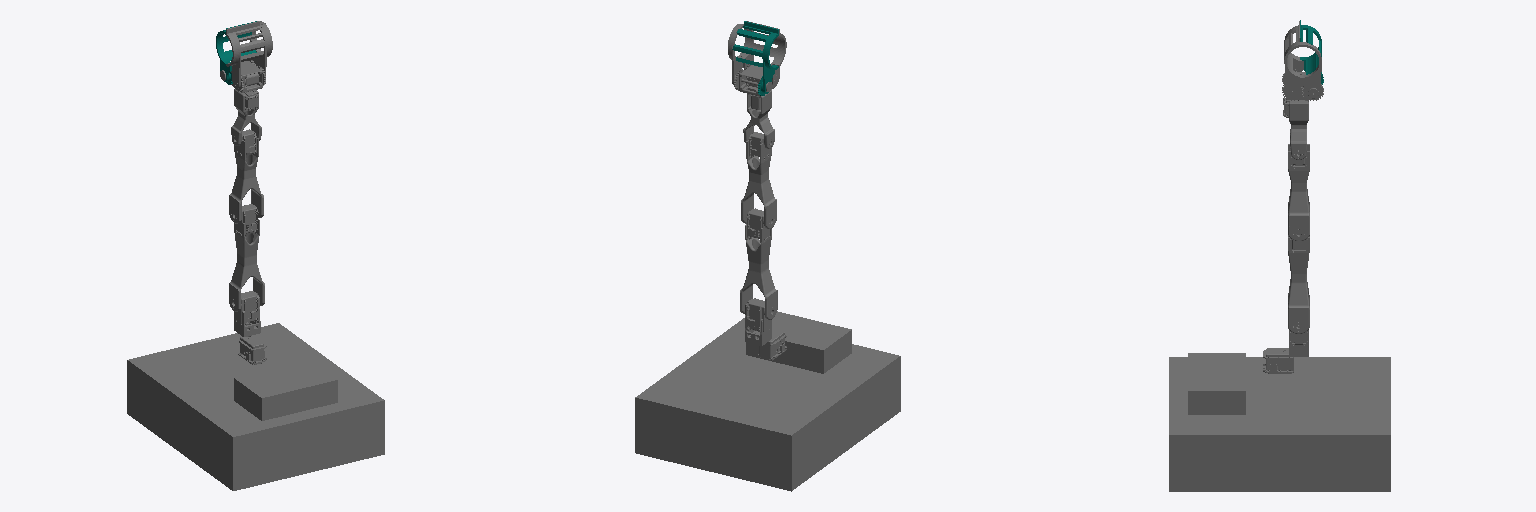
--- Render facts (derived) ---
3 views of the same robot in one strip: view 1: azimuth 30°, elevation 25°; view 2: azimuth 150°, elevation 25°; view 3: azimuth 270°, elevation 25° (orthographic).
Model onshape with 27 links and 26 joints (7 revolute, 19 fixed), rooted at base_link, posed all joints at 0.
Visible links, largest first — view 1: base_link, part_1_2, part_1_3, part_1_5, poignee, part_7, part_1_10, part_7_2; view 2: base_link, part_1_2, part_1_3, part_1_10, poignee, part_7_2, part_1_5, part_7; view 3: base_link, part_1_2, part_1_3, poignee, part_7, part_1_6, part_1_9, part_1_10.
Link boxes in pixels (x1,y1,x2,y2): base_link: (127,323,384,490); part_1_2: (229,219,264,311); part_1_3: (229,138,263,223); part_1_5: (226,21,266,91); poignee: (231,89,261,145); part_7: (238,335,266,364); part_1_10: (216,21,256,84); part_7_2: (235,291,259,324); base_link: (635,311,900,491); part_1_2: (740,224,777,319); part_1_3: (741,140,776,228); part_1_10: (732,21,778,95); poignee: (743,90,774,148); part_7_2: (745,298,770,331); part_1_5: (747,21,786,88); part_7: (758,329,786,360); base_link: (1169,353,1390,491); part_1_2: (1288,236,1309,333); part_1_3: (1288,144,1309,240); poignee: (1289,100,1308,159); part_7: (1263,348,1293,373); part_1_6: (1282,42,1303,100); part_1_9: (1300,42,1323,100); part_1_10: (1300,20,1323,84).
Size in the robot's own frame: 0.38 by 0.46 by 0.9668 metres.
Meshes: 27 distinct files referenced, 27 mesh visuals loaded (27 binary STL).

robot.urdf — onshape:
<?xml version="1.0" ?>
<robot name="onshape">
<link name="base_link">
    <visual>
    <origin xyz="0 0 0" rpy="0 -0 0" />
    <geometry>
    <mesh filename="package://braccio_description/meshes/base_link_visual.stl"/>
    </geometry>
    <material name="base_link_material">
    <color rgba="0.5 0.5 0.5 1.0"/>
    </material>
    </visual>
    <collision>
    <origin xyz="0 0 0" rpy="0 -0 0" />
    <geometry>
    <mesh filename="package://braccio_description/meshes/base_link_collision.stl"/>
    </geometry>
    <material name="base_link_material">
    <color rgba="0.5 0.5 0.5 1.0"/>
    </material>
    </collision>
    <inertial>
    <origin xyz="0 0 0" rpy="0 0 0"/>
    <mass value="0" />
    <inertia ixx="0" ixy="0"  ixz="0" iyy="0" iyz="0" izz="0" />
    </inertial>
</link>

<link name="part_7">
    <visual>
    <origin xyz="0 0 0" rpy="0 -0 0" />
    <geometry>
    <mesh filename="package://braccio_description/meshes/part_7_visual.stl"/>
    </geometry>
    <material name="part_7_material">
    <color rgba="0.5 0.5 0.5 1.0"/>
    </material>
    </visual>
    <collision>
    <origin xyz="0 0 0" rpy="0 -0 0" />
    <geometry>
    <mesh filename="package://braccio_description/meshes/part_7_collision.stl"/>
    </geometry>
    <material name="part_7_material">
    <color rgba="0.5 0.5 0.5 1.0"/>
    </material>
    </collision>
    <inertial>
    <origin xyz="0 0 0" rpy="0 0 0"/>
    <mass value="0" />
    <inertia ixx="0" ixy="0"  ixz="0" iyy="0" iyz="0" izz="0" />
    </inertial>
</link>

<link name="part_5">
    <visual>
    <origin xyz="0 0 0" rpy="0 -0 0" />
    <geometry>
    <mesh filename="package://braccio_description/meshes/part_5_visual.stl"/>
    </geometry>
    <material name="part_5_material">
    <color rgba="0.5 0.5 0.5 1.0"/>
    </material>
    </visual>
    <collision>
    <origin xyz="0 0 0" rpy="0 -0 0" />
    <geometry>
    <mesh filename="package://braccio_description/meshes/part_5_collision.stl"/>
    </geometry>
    <material name="part_5_material">
    <color rgba="0.5 0.5 0.5 1.0"/>
    </material>
    </collision>
    <inertial>
    <origin xyz="0 0 0" rpy="0 0 0"/>
    <mass value="0" />
    <inertia ixx="0" ixy="0"  ixz="0" iyy="0" iyz="0" izz="0" />
    </inertial>
</link>

<link name="part_6">
    <visual>
    <origin xyz="0 0 0" rpy="0 -0 0" />
    <geometry>
    <mesh filename="package://braccio_description/meshes/part_6_visual.stl"/>
    </geometry>
    <material name="part_6_material">
    <color rgba="0.5 0.5 0.5 1.0"/>
    </material>
    </visual>
    <collision>
    <origin xyz="0 0 0" rpy="0 -0 0" />
    <geometry>
    <mesh filename="package://braccio_description/meshes/part_6_collision.stl"/>
    </geometry>
    <material name="part_6_material">
    <color rgba="0.5 0.5 0.5 1.0"/>
    </material>
    </collision>
    <inertial>
    <origin xyz="0 0 0" rpy="0 0 0"/>
    <mass value="0" />
    <inertia ixx="0" ixy="0"  ixz="0" iyy="0" iyz="0" izz="0" />
    </inertial>
</link>

<link name="part_4">
    <visual>
    <origin xyz="0 0 0" rpy="0 -0 0" />
    <geometry>
    <mesh filename="package://braccio_description/meshes/part_4_visual.stl"/>
    </geometry>
    <material name="part_4_material">
    <color rgba="0.5 0.5 0.5 1.0"/>
    </material>
    </visual>
    <collision>
    <origin xyz="0 0 0" rpy="0 -0 0" />
    <geometry>
    <mesh filename="package://braccio_description/meshes/part_4_collision.stl"/>
    </geometry>
    <material name="part_4_material">
    <color rgba="0.5 0.5 0.5 1.0"/>
    </material>
    </collision>
    <inertial>
    <origin xyz="0 0 0" rpy="0 0 0"/>
    <mass value="0" />
    <inertia ixx="0" ixy="0"  ixz="0" iyy="0" iyz="0" izz="0" />
    </inertial>
</link>

<joint name="3f" type="fixed">
    <origin xyz="-6.09235e-15 6.45317e-15 -0.0043" rpy="3.14159 1.24298e-32 -5.55112e-17" />
    <parent link="part_6" />
    <child link="part_4" />
    <axis xyz="0 0 1"/>
    <limit effort="1" velocity="20" />
    <joint_properties friction="0.0"/>
</joint>

<link name="part_1">
    <visual>
    <origin xyz="0 0 0" rpy="0 -0 0" />
    <geometry>
    <mesh filename="package://braccio_description/meshes/part_1_visual.stl"/>
    </geometry>
    <material name="part_1_material">
    <color rgba="0.5 0.5 0.5 1.0"/>
    </material>
    </visual>
    <collision>
    <origin xyz="0 0 0" rpy="0 -0 0" />
    <geometry>
    <mesh filename="package://braccio_description/meshes/part_1_collision.stl"/>
    </geometry>
    <material name="part_1_material">
    <color rgba="0.5 0.5 0.5 1.0"/>
    </material>
    </collision>
    <inertial>
    <origin xyz="0 0 0" rpy="0 0 0"/>
    <mass value="0" />
    <inertia ixx="0" ixy="0"  ixz="0" iyy="0" iyz="0" izz="0" />
    </inertial>
</link>

<link name="part_7_2">
    <visual>
    <origin xyz="0 0 0" rpy="0 -0 0" />
    <geometry>
    <mesh filename="package://braccio_description/meshes/part_7_2_visual.stl"/>
    </geometry>
    <material name="part_7_2_material">
    <color rgba="0.5 0.5 0.5 1.0"/>
    </material>
    </visual>
    <collision>
    <origin xyz="0 0 0" rpy="0 -0 0" />
    <geometry>
    <mesh filename="package://braccio_description/meshes/part_7_2_collision.stl"/>
    </geometry>
    <material name="part_7_2_material">
    <color rgba="0.5 0.5 0.5 1.0"/>
    </material>
    </collision>
    <inertial>
    <origin xyz="0 0 0" rpy="0 0 0"/>
    <mass value="0" />
    <inertia ixx="0" ixy="0"  ixz="0" iyy="0" iyz="0" izz="0" />
    </inertial>
</link>

<link name="part_5_2">
    <visual>
    <origin xyz="0 0 0" rpy="0 -0 0" />
    <geometry>
    <mesh filename="package://braccio_description/meshes/part_5_2_visual.stl"/>
    </geometry>
    <material name="part_5_2_material">
    <color rgba="0.5 0.5 0.5 1.0"/>
    </material>
    </visual>
    <collision>
    <origin xyz="0 0 0" rpy="0 -0 0" />
    <geometry>
    <mesh filename="package://braccio_description/meshes/part_5_2_collision.stl"/>
    </geometry>
    <material name="part_5_2_material">
    <color rgba="0.5 0.5 0.5 1.0"/>
    </material>
    </collision>
    <inertial>
    <origin xyz="0 0 0" rpy="0 0 0"/>
    <mass value="0" />
    <inertia ixx="0" ixy="0"  ixz="0" iyy="0" iyz="0" izz="0" />
    </inertial>
</link>

<link name="part_4_2">
    <visual>
    <origin xyz="0 0 0" rpy="0 -0 0" />
    <geometry>
    <mesh filename="package://braccio_description/meshes/part_4_2_visual.stl"/>
    </geometry>
    <material name="part_4_2_material">
    <color rgba="0.5 0.5 0.5 1.0"/>
    </material>
    </visual>
    <collision>
    <origin xyz="0 0 0" rpy="0 -0 0" />
    <geometry>
    <mesh filename="package://braccio_description/meshes/part_4_2_collision.stl"/>
    </geometry>
    <material name="part_4_2_material">
    <color rgba="0.5 0.5 0.5 1.0"/>
    </material>
    </collision>
    <inertial>
    <origin xyz="0 0 0" rpy="0 0 0"/>
    <mass value="0" />
    <inertia ixx="0" ixy="0"  ixz="0" iyy="0" iyz="0" izz="0" />
    </inertial>
</link>

<link name="part_6_2">
    <visual>
    <origin xyz="0 0 0" rpy="0 -0 0" />
    <geometry>
    <mesh filename="package://braccio_description/meshes/part_6_2_visual.stl"/>
    </geometry>
    <material name="part_6_2_material">
    <color rgba="0.5 0.5 0.5 1.0"/>
    </material>
    </visual>
    <collision>
    <origin xyz="0 0 0" rpy="0 -0 0" />
    <geometry>
    <mesh filename="package://braccio_description/meshes/part_6_2_collision.stl"/>
    </geometry>
    <material name="part_6_2_material">
    <color rgba="0.5 0.5 0.5 1.0"/>
    </material>
    </collision>
    <inertial>
    <origin xyz="0 0 0" rpy="0 0 0"/>
    <mass value="0" />
    <inertia ixx="0" ixy="0"  ixz="0" iyy="0" iyz="0" izz="0" />
    </inertial>
</link>

<link name="part_1_2">
    <visual>
    <origin xyz="0 0 0" rpy="0 -0 0" />
    <geometry>
    <mesh filename="package://braccio_description/meshes/part_1_2_visual.stl"/>
    </geometry>
    <material name="part_1_2_material">
    <color rgba="0.5 0.5 0.5 1.0"/>
    </material>
    </visual>
    <collision>
    <origin xyz="0 0 0" rpy="0 -0 0" />
    <geometry>
    <mesh filename="package://braccio_description/meshes/part_1_2_collision.stl"/>
    </geometry>
    <material name="part_1_2_material">
    <color rgba="0.5 0.5 0.5 1.0"/>
    </material>
    </collision>
    <inertial>
    <origin xyz="0 0 0" rpy="0 0 0"/>
    <mass value="0" />
    <inertia ixx="0" ixy="0"  ixz="0" iyy="0" iyz="0" izz="0" />
    </inertial>
</link>

<link name="part_17">
    <visual>
    <origin xyz="0 0 0" rpy="0 -0 0" />
    <geometry>
    <mesh filename="package://braccio_description/meshes/part_17_visual.stl"/>
    </geometry>
    <material name="part_17_material">
    <color rgba="0.5 0.5 0.5 1.0"/>
    </material>
    </visual>
    <collision>
    <origin xyz="0 0 0" rpy="0 -0 0" />
    <geometry>
    <mesh filename="package://braccio_description/meshes/part_17_collision.stl"/>
    </geometry>
    <material name="part_17_material">
    <color rgba="0.5 0.5 0.5 1.0"/>
    </material>
    </collision>
    <inertial>
    <origin xyz="0 0 0" rpy="0 0 0"/>
    <mass value="0" />
    <inertia ixx="0" ixy="0"  ixz="0" iyy="0" iyz="0" izz="0" />
    </inertial>
</link>

<link name="part_6_3">
    <visual>
    <origin xyz="0 0 0" rpy="0 -0 0" />
    <geometry>
    <mesh filename="package://braccio_description/meshes/part_6_3_visual.stl"/>
    </geometry>
    <material name="part_6_3_material">
    <color rgba="0.5 0.5 0.5 1.0"/>
    </material>
    </visual>
    <collision>
    <origin xyz="0 0 0" rpy="0 -0 0" />
    <geometry>
    <mesh filename="package://braccio_description/meshes/part_6_3_collision.stl"/>
    </geometry>
    <material name="part_6_3_material">
    <color rgba="0.5 0.5 0.5 1.0"/>
    </material>
    </collision>
    <inertial>
    <origin xyz="0 0 0" rpy="0 0 0"/>
    <mass value="0" />
    <inertia ixx="0" ixy="0"  ixz="0" iyy="0" iyz="0" izz="0" />
    </inertial>
</link>

<link name="part_1_3">
    <visual>
    <origin xyz="0 0 0" rpy="0 -0 0" />
    <geometry>
    <mesh filename="package://braccio_description/meshes/part_1_3_visual.stl"/>
    </geometry>
    <material name="part_1_3_material">
    <color rgba="0.5 0.5 0.5 1.0"/>
    </material>
    </visual>
    <collision>
    <origin xyz="0 0 0" rpy="0 -0 0" />
    <geometry>
    <mesh filename="package://braccio_description/meshes/part_1_3_collision.stl"/>
    </geometry>
    <material name="part_1_3_material">
    <color rgba="0.5 0.5 0.5 1.0"/>
    </material>
    </collision>
    <inertial>
    <origin xyz="0 0 0" rpy="0 0 0"/>
    <mass value="0" />
    <inertia ixx="0" ixy="0"  ixz="0" iyy="0" iyz="0" izz="0" />
    </inertial>
</link>

<link name="part_1_4">
    <visual>
    <origin xyz="0 0 0" rpy="0 -0 0" />
    <geometry>
    <mesh filename="package://braccio_description/meshes/part_1_4_visual.stl"/>
    </geometry>
    <material name="part_1_4_material">
    <color rgba="0.5 0.5 0.5 1.0"/>
    </material>
    </visual>
    <collision>
    <origin xyz="0 0 0" rpy="0 -0 0" />
    <geometry>
    <mesh filename="package://braccio_description/meshes/part_1_4_collision.stl"/>
    </geometry>
    <material name="part_1_4_material">
    <color rgba="0.5 0.5 0.5 1.0"/>
    </material>
    </collision>
    <inertial>
    <origin xyz="0 0 0" rpy="0 0 0"/>
    <mass value="0" />
    <inertia ixx="0" ixy="0"  ixz="0" iyy="0" iyz="0" izz="0" />
    </inertial>
</link>

<link name="poignee">
    <visual>
    <origin xyz="0 0 0" rpy="0 -0 0" />
    <geometry>
    <mesh filename="package://braccio_description/meshes/poignee_visual.stl"/>
    </geometry>
    <material name="poignee_material">
    <color rgba="0.5 0.5 0.5 1.0"/>
    </material>
    </visual>
    <collision>
    <origin xyz="0 0 0" rpy="0 -0 0" />
    <geometry>
    <mesh filename="package://braccio_description/meshes/poignee_collision.stl"/>
    </geometry>
    <material name="poignee_material">
    <color rgba="0.5 0.5 0.5 1.0"/>
    </material>
    </collision>
    <inertial>
    <origin xyz="0 0 0" rpy="0 0 0"/>
    <mass value="0" />
    <inertia ixx="0" ixy="0"  ixz="0" iyy="0" iyz="0" izz="0" />
    </inertial>
</link>

<link name="part_11">
    <visual>
    <origin xyz="0 0 0" rpy="0 -0 0" />
    <geometry>
    <mesh filename="package://braccio_description/meshes/part_11_visual.stl"/>
    </geometry>
    <material name="part_11_material">
    <color rgba="0.5 0.5 0.5 1.0"/>
    </material>
    </visual>
    <collision>
    <origin xyz="0 0 0" rpy="0 -0 0" />
    <geometry>
    <mesh filename="package://braccio_description/meshes/part_11_collision.stl"/>
    </geometry>
    <material name="part_11_material">
    <color rgba="0.5 0.5 0.5 1.0"/>
    </material>
    </collision>
    <inertial>
    <origin xyz="0 0 0" rpy="0 0 0"/>
    <mass value="0" />
    <inertia ixx="0" ixy="0"  ixz="0" iyy="0" iyz="0" izz="0" />
    </inertial>
</link>

<link name="part_2">
    <visual>
    <origin xyz="0 0 0" rpy="0 -0 0" />
    <geometry>
    <mesh filename="package://braccio_description/meshes/part_2_visual.stl"/>
    </geometry>
    <material name="part_2_material">
    <color rgba="0.5 0.5 0.5 1.0"/>
    </material>
    </visual>
    <collision>
    <origin xyz="0 0 0" rpy="0 -0 0" />
    <geometry>
    <mesh filename="package://braccio_description/meshes/part_2_collision.stl"/>
    </geometry>
    <material name="part_2_material">
    <color rgba="0.5 0.5 0.5 1.0"/>
    </material>
    </collision>
    <inertial>
    <origin xyz="0 0 0" rpy="0 0 0"/>
    <mass value="0" />
    <inertia ixx="0" ixy="0"  ixz="0" iyy="0" iyz="0" izz="0" />
    </inertial>
</link>

<link name="support_pince">
    <visual>
    <origin xyz="0 0 0" rpy="0 -0 0" />
    <geometry>
    <mesh filename="package://braccio_description/meshes/support_pince_visual.stl"/>
    </geometry>
    <material name="support_pince_material">
    <color rgba="0.5 0.5 0.5 1.0"/>
    </material>
    </visual>
    <collision>
    <origin xyz="0 0 0" rpy="0 -0 0" />
    <geometry>
    <mesh filename="package://braccio_description/meshes/support_pince_collision.stl"/>
    </geometry>
    <material name="support_pince_material">
    <color rgba="0.5 0.5 0.5 1.0"/>
    </material>
    </collision>
    <inertial>
    <origin xyz="0 0 0" rpy="0 0 0"/>
    <mass value="0" />
    <inertia ixx="0" ixy="0"  ixz="0" iyy="0" iyz="0" izz="0" />
    </inertial>
</link>

<link name="part_11_2">
    <visual>
    <origin xyz="0 0 0" rpy="0 -0 0" />
    <geometry>
    <mesh filename="package://braccio_description/meshes/part_11_2_visual.stl"/>
    </geometry>
    <material name="part_11_2_material">
    <color rgba="0.5 0.5 0.5 1.0"/>
    </material>
    </visual>
    <collision>
    <origin xyz="0 0 0" rpy="0 -0 0" />
    <geometry>
    <mesh filename="package://braccio_description/meshes/part_11_2_collision.stl"/>
    </geometry>
    <material name="part_11_2_material">
    <color rgba="0.5 0.5 0.5 1.0"/>
    </material>
    </collision>
    <inertial>
    <origin xyz="0 0 0" rpy="0 0 0"/>
    <mass value="0" />
    <inertia ixx="0" ixy="0"  ixz="0" iyy="0" iyz="0" izz="0" />
    </inertial>
</link>

<link name="part_2_2">
    <visual>
    <origin xyz="0 0 0" rpy="0 -0 0" />
    <geometry>
    <mesh filename="package://braccio_description/meshes/part_2_2_visual.stl"/>
    </geometry>
    <material name="part_2_2_material">
    <color rgba="0.5 0.5 0.5 1.0"/>
    </material>
    </visual>
    <collision>
    <origin xyz="0 0 0" rpy="0 -0 0" />
    <geometry>
    <mesh filename="package://braccio_description/meshes/part_2_2_collision.stl"/>
    </geometry>
    <material name="part_2_2_material">
    <color rgba="0.5 0.5 0.5 1.0"/>
    </material>
    </collision>
    <inertial>
    <origin xyz="0 0 0" rpy="0 0 0"/>
    <mass value="0" />
    <inertia ixx="0" ixy="0"  ixz="0" iyy="0" iyz="0" izz="0" />
    </inertial>
</link>

<link name="part_1_5">
    <visual>
    <origin xyz="0 0 0" rpy="0 -0 0" />
    <geometry>
    <mesh filename="package://braccio_description/meshes/part_1_5_visual.stl"/>
    </geometry>
    <material name="part_1_5_material">
    <color rgba="0.5 0.5 0.5 1.0"/>
    </material>
    </visual>
    <collision>
    <origin xyz="0 0 0" rpy="0 -0 0" />
    <geometry>
    <mesh filename="package://braccio_description/meshes/part_1_5_collision.stl"/>
    </geometry>
    <material name="part_1_5_material">
    <color rgba="0.5 0.5 0.5 1.0"/>
    </material>
    </collision>
    <inertial>
    <origin xyz="0 0 0" rpy="0 0 0"/>
    <mass value="0" />
    <inertia ixx="0" ixy="0"  ixz="0" iyy="0" iyz="0" izz="0" />
    </inertial>
</link>

<link name="part_1_6">
    <visual>
    <origin xyz="0 0 0" rpy="0 -0 0" />
    <geometry>
    <mesh filename="package://braccio_description/meshes/part_1_6_visual.stl"/>
    </geometry>
    <material name="part_1_6_material">
    <color rgba="0.5 0.5 0.5 1.0"/>
    </material>
    </visual>
    <collision>
    <origin xyz="0 0 0" rpy="0 -0 0" />
    <geometry>
    <mesh filename="package://braccio_description/meshes/part_1_6_collision.stl"/>
    </geometry>
    <material name="part_1_6_material">
    <color rgba="0.5 0.5 0.5 1.0"/>
    </material>
    </collision>
    <inertial>
    <origin xyz="0 0 0" rpy="0 0 0"/>
    <mass value="0" />
    <inertia ixx="0" ixy="0"  ixz="0" iyy="0" iyz="0" izz="0" />
    </inertial>
</link>

<joint name="22f" type="fixed">
    <origin xyz="0.0135856 -0.0828639 0.0525" rpy="-3.14159 3.27525e-30 6.31089e-30" />
    <parent link="part_1_5" />
    <child link="part_1_6" />
    <axis xyz="0 0 1"/>
    <limit effort="1" velocity="20" />
    <joint_properties friction="0.0"/>
</joint>

<joint name="21f" type="fixed">
    <origin xyz="0 0 -0.0077" rpy="-3.9795e-15 2.22045e-16 -1.5708" />
    <parent link="part_2_2" />
    <child link="part_1_5" />
    <axis xyz="0 0 1"/>
    <limit effort="1" velocity="20" />
    <joint_properties friction="0.0"/>
</joint>

<joint name="pince_mot" type="revolute">
    <origin xyz="-0.0135 0.0225 -0.0026" rpy="3.14159 4.31256e-15 5.73896e-29" />
    <parent link="part_11_2" />
    <child link="part_2_2" />
    <axis xyz="0 0 1"/>
    <limit effort="1" velocity="20" lower="0" upper="1.5708"/>
    <joint_properties friction="0.0"/>
</joint>

<joint name="19f" type="fixed">
    <origin xyz="0.00350003 -0.0142499 -0.00999994" rpy="1.5708 -1.5708 0" />
    <parent link="support_pince" />
    <child link="part_11_2" />
    <axis xyz="0 0 1"/>
    <limit effort="1" velocity="20" />
    <joint_properties friction="0.0"/>
</joint>

<link name="part_1_7">
    <visual>
    <origin xyz="0 0 0" rpy="0 -0 0" />
    <geometry>
    <mesh filename="package://braccio_description/meshes/part_1_7_visual.stl"/>
    </geometry>
    <material name="part_1_7_material">
    <color rgba="0.5 0.5 0.5 1.0"/>
    </material>
    </visual>
    <collision>
    <origin xyz="0 0 0" rpy="0 -0 0" />
    <geometry>
    <mesh filename="package://braccio_description/meshes/part_1_7_collision.stl"/>
    </geometry>
    <material name="part_1_7_material">
    <color rgba="0.5 0.5 0.5 1.0"/>
    </material>
    </collision>
    <inertial>
    <origin xyz="0 0 0" rpy="0 0 0"/>
    <mass value="0" />
    <inertia ixx="0" ixy="0"  ixz="0" iyy="0" iyz="0" izz="0" />
    </inertial>
</link>

<link name="part_1_8">
    <visual>
    <origin xyz="0 0 0" rpy="0 -0 0" />
    <geometry>
    <mesh filename="package://braccio_description/meshes/part_1_8_visual.stl"/>
    </geometry>
    <material name="part_1_8_material">
    <color rgba="0.5 0.5 0.5 1.0"/>
    </material>
    </visual>
    <collision>
    <origin xyz="0 0 0" rpy="0 -0 0" />
    <geometry>
    <mesh filename="package://braccio_description/meshes/part_1_8_collision.stl"/>
    </geometry>
    <material name="part_1_8_material">
    <color rgba="0.5 0.5 0.5 1.0"/>
    </material>
    </collision>
    <inertial>
    <origin xyz="0 0 0" rpy="0 0 0"/>
    <mass value="0" />
    <inertia ixx="0" ixy="0"  ixz="0" iyy="0" iyz="0" izz="0" />
    </inertial>
</link>

<link name="part_1_9">
    <visual>
    <origin xyz="0 0 0" rpy="0 -0 0" />
    <geometry>
    <mesh filename="package://braccio_description/meshes/part_1_9_visual.stl"/>
    </geometry>
    <material name="part_1_9_material">
    <color rgba="0.5 0.5 0.5 1.0"/>
    </material>
    </visual>
    <collision>
    <origin xyz="0 0 0" rpy="0 -0 0" />
    <geometry>
    <mesh filename="package://braccio_description/meshes/part_1_9_collision.stl"/>
    </geometry>
    <material name="part_1_9_material">
    <color rgba="0.5 0.5 0.5 1.0"/>
    </material>
    </collision>
    <inertial>
    <origin xyz="0 0 0" rpy="0 0 0"/>
    <mass value="0" />
    <inertia ixx="0" ixy="0"  ixz="0" iyy="0" iyz="0" izz="0" />
    </inertial>
</link>

<joint name="25f" type="fixed">
    <origin xyz="-0.0111547 -0.002 0.0025" rpy="-9.18292e-15 2.22045e-16 -5.68108e-16" />
    <parent link="part_1_8" />
    <child link="part_1_9" />
    <axis xyz="0 0 1"/>
    <limit effort="1" velocity="20" />
    <joint_properties friction="0.0"/>
</joint>

<joint name="24f" type="fixed">
    <origin xyz="-0.0011547 0.002 -0.0375" rpy="-3.14159 -1.11022e-16 -3.14159" />
    <parent link="part_1_7" />
    <child link="part_1_8" />
    <axis xyz="0 0 1"/>
    <limit effort="1" velocity="20" />
    <joint_properties friction="0.0"/>
</joint>

<link name="part_1_10">
    <visual>
    <origin xyz="0 0 0" rpy="0 -0 0" />
    <geometry>
    <mesh filename="package://braccio_description/meshes/part_1_10_visual.stl"/>
    </geometry>
    <material name="part_1_10_material">
    <color rgba="0.0470588 0.470588 0.435294 1.0"/>
    </material>
    </visual>
    <collision>
    <origin xyz="0 0 0" rpy="0 -0 0" />
    <geometry>
    <mesh filename="package://braccio_description/meshes/part_1_10_collision.stl"/>
    </geometry>
    <material name="part_1_10_material">
    <color rgba="0.5 0.5 0.5 1.0"/>
    </material>
    </collision>
    <inertial>
    <origin xyz="0.00232943 0.0532684 -0.0199597" rpy="0 0 0"/>
    <mass value="0.0598161" />
    <inertia ixx="0.000137938" ixy="6.9959e-06"  ixz="-1.48999e-06" iyy="4.32368e-05" iyz="1.89377e-05" izz="0.000112883" />
    </inertial>
</link>

<joint name="26f" type="fixed">
    <origin xyz="6.93889e-18 -2.22045e-16 0.039" rpy="-3.67723e-17 1.72085e-15 -3.14159" />
    <parent link="part_1_7" />
    <child link="part_1_10" />
    <axis xyz="0 0 1"/>
    <limit effort="1" velocity="20" />
    <joint_properties friction="0.0"/>
</joint>

<joint name="pince_lib" type="revolute">
    <origin xyz="0.024 -0.000549949 -0.0234999" rpy="1.5708 -6.66587e-29 -2.94781e-15" />
    <parent link="support_pince" />
    <child link="part_1_7" />
    <axis xyz="0 0 1"/>
    <limit effort="1" velocity="20" lower="0" upper="1.5708"/>
    <joint_properties friction="0.0"/>
</joint>

<joint name="18f" type="fixed">
    <origin xyz="-2.60209e-18 -8.67362e-19 0.01431" rpy="3.14159 -1.57772e-30 1.5708" />
    <parent link="part_2" />
    <child link="support_pince" />
    <axis xyz="0 0 1"/>
    <limit effort="1" velocity="20" />
    <joint_properties friction="0.0"/>
</joint>

<joint name="poignet_rot" type="revolute">
    <origin xyz="0.0135 0.0145 -0.0026" rpy="-2.22045e-16 -2.22045e-16 -1.64305e-14" />
    <parent link="part_11" />
    <child link="part_2" />
    <axis xyz="0 0 1"/>
    <limit effort="1" velocity="20" lower="-3.14159" upper="3.14159"/>
    <joint_properties friction="0.0"/>
</joint>

<joint name="16f" type="fixed">
    <origin xyz="0.008 0.110686 -0.016" rpy="-1.5708 1.5708 0" />
    <parent link="poignee" />
    <child link="part_11" />
    <axis xyz="0 0 1"/>
    <limit effort="1" velocity="20" />
    <joint_properties friction="0.0"/>
</joint>

<joint name="poignet_incl" type="revolute">
    <origin xyz="0.0080763 -0.0358 0.01475" rpy="-3.8477e-15 1.20224e-15 -3.14159" />
    <parent link="part_1_4" />
    <child link="poignee" />
    <axis xyz="0 0 1"/>
    <limit effort="1" velocity="20" lower="-1.74533" upper="1.74533"/>
    <joint_properties friction="0.0"/>
</joint>

<joint name="14f" type="fixed">
    <origin xyz="-0.1342 -0.0085 0.009" rpy="-3.14159 -2.26416e-31 1.5708" />
    <parent link="part_1_3" />
    <child link="part_1_4" />
    <axis xyz="0 0 1"/>
    <limit effort="1" velocity="20" />
    <joint_properties friction="0.0"/>
</joint>

<joint name="13f" type="fixed">
    <origin xyz="0.0109949 0.000336119 0.006" rpy="3.14159 1.0011e-14 3.14159" />
    <parent link="part_6_3" />
    <child link="part_1_3" />
    <axis xyz="0 0 1"/>
    <limit effort="1" velocity="20" />
    <joint_properties friction="0.0"/>
</joint>

<joint name="coude" type="revolute">
    <origin xyz="-0.0109994 0.0453 -0.0362" rpy="-3.14159 -1.40621e-15 1.5708" />
    <parent link="part_17" />
    <child link="part_6_3" />
    <axis xyz="0 0 1"/>
    <limit effort="1" velocity="20" lower="-2.0944" upper="2.0944"/>
    <joint_properties friction="0.0"/>
</joint>

<joint name="11f" type="fixed">
    <origin xyz="-0.176688 0.011 0.04325" rpy="1.64806e-15 -1.74617e-15 1.5708" />
    <parent link="part_1_2" />
    <child link="part_17" />
    <axis xyz="0 0 1"/>
    <limit effort="1" velocity="20" />
    <joint_properties friction="0.0"/>
</joint>

<joint name="10f" type="fixed">
    <origin xyz="0.000336119 -0.0109949 0.0002" rpy="-3.14159 4.87172e-17 -1.5708" />
    <parent link="part_6_2" />
    <child link="part_1_2" />
    <axis xyz="0 0 1"/>
    <limit effort="1" velocity="20" />
    <joint_properties friction="0.0"/>
</joint>

<joint name="9f" type="fixed">
    <origin xyz="-8.72783e-18 2.77556e-17 -0.0048" rpy="-3.14159 -1.46256e-30 -5.55112e-17" />
    <parent link="part_4_2" />
    <child link="part_6_2" />
    <axis xyz="0 0 1"/>
    <limit effort="1" velocity="20" />
    <joint_properties friction="0.0"/>
</joint>

<joint name="8f" type="fixed">
    <origin xyz="1.11131e-18 2.77556e-17 0.0013" rpy="3.14159 -1.23886e-14 -3.14159" />
    <parent link="part_5_2" />
    <child link="part_4_2" />
    <axis xyz="0 0 1"/>
    <limit effort="1" velocity="20" />
    <joint_properties friction="0.0"/>
</joint>

<joint name="epaule" type="revolute">
    <origin xyz="-0.011 -0.0478 -0.038" rpy="-3.14159 -1.84536e-15 -3.14159" />
    <parent link="part_7_2" />
    <child link="part_5_2" />
    <axis xyz="0 0 1"/>
    <limit effort="1" velocity="20" lower="-2.0944" upper="2.0944"/>
    <joint_properties friction="0.0"/>
</joint>

<joint name="6f" type="fixed">
    <origin xyz="0.011 0.01725 0.0203" rpy="-1.5708 7.88861e-31 6.05033e-40" />
    <parent link="part_1" />
    <child link="part_7_2" />
    <axis xyz="0 0 1"/>
    <limit effort="1" velocity="20" />
    <joint_properties friction="0.0"/>
</joint>

<joint name="5f" type="fixed">
    <origin xyz="-6.08888e-15 6.45493e-15 -0.0078" rpy="3.14159 -3.16787e-30 3.14159" />
    <parent link="part_6" />
    <child link="part_1" />
    <axis xyz="0 0 1"/>
    <limit effort="1" velocity="20" />
    <joint_properties friction="0.0"/>
</joint>

<joint name="4f" type="fixed">
    <origin xyz="-0.000120642 -0.00012451 0.002" rpy="3.14159 7.76538e-31 1.14427e-34" />
    <parent link="part_5" />
    <child link="part_6" />
    <axis xyz="0 0 1"/>
    <limit effort="1" velocity="20" />
    <joint_properties friction="0.0"/>
</joint>

<joint name="base" type="revolute">
    <origin xyz="0.011 0.0478 0.004" rpy="1.63909e-22 3.23741e-22 1.5708" />
    <parent link="part_7" />
    <child link="part_5" />
    <axis xyz="0 0 1"/>
    <limit effort="1" velocity="20" lower="-4.71239" upper="4.71239"/>
    <joint_properties friction="0.0"/>
</joint>

<joint name="1f" type="fixed">
    <origin xyz="-0.011 -0.0478 0.0825" rpy="0 -0 0" />
    <parent link="base_link" />
    <child link="part_7" />
    <axis xyz="0 0 1"/>
    <limit effort="1" velocity="20" />
    <joint_properties friction="0.0"/>
</joint>


</robot>
